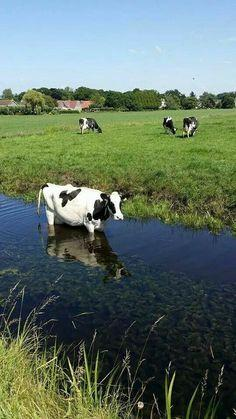cow: (38, 174, 144, 279)
